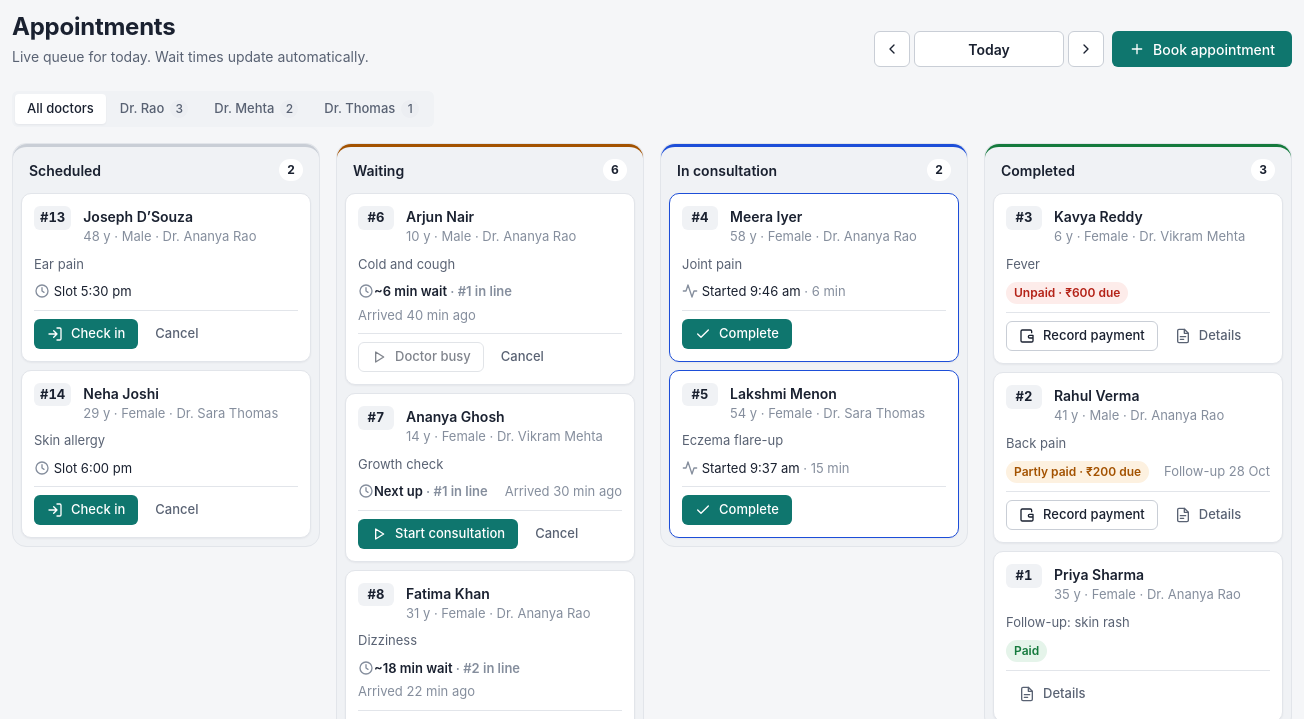
Test: AppointmentsPage › moves a waiting patient into consultation and updates the queue
expect the text "Next up · #1 in line" is shown: met, box left=358, top=482, right=488, bottom=502
Click the button "Start consultation": (438, 534) left=358, top=518, right=518, bottom=548
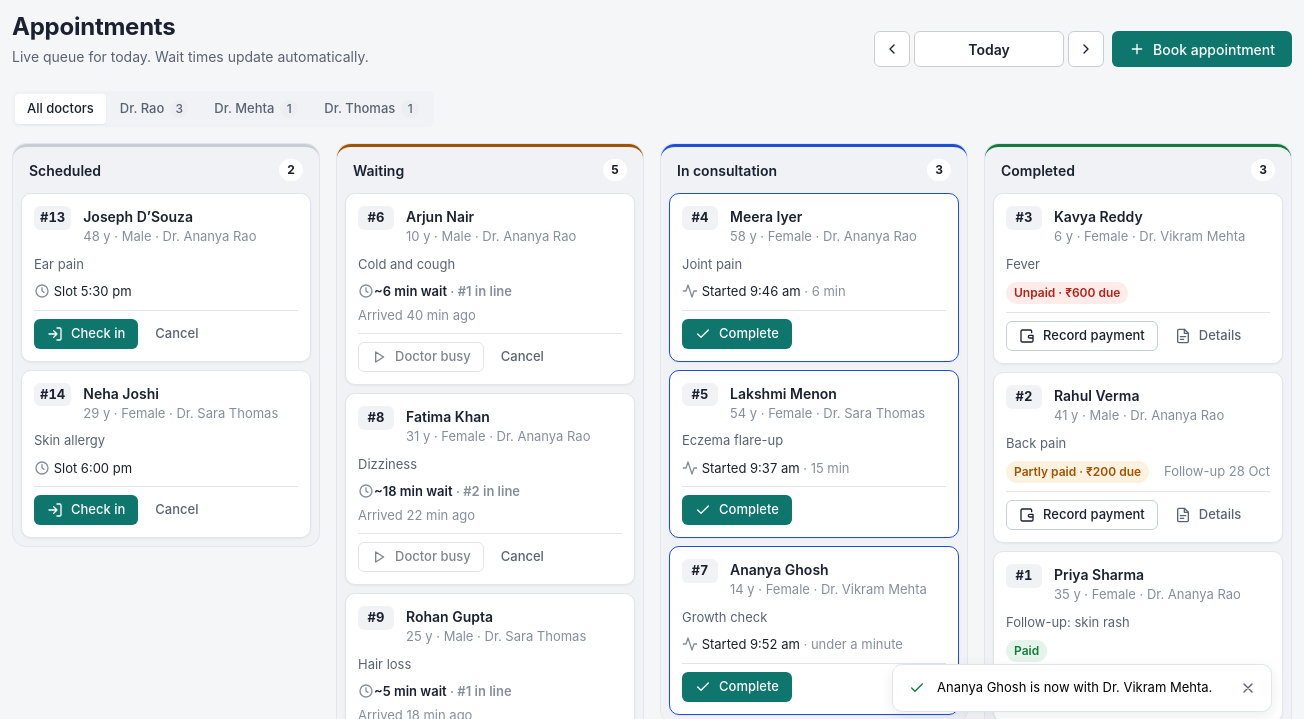
expect the button "Ananya Ghosh" is shown: met, box left=730, top=559, right=829, bottom=580
expect the text "Ananya Ghosh is now with Dr. Vikram Mehta." is shown: met, box left=937, top=678, right=1221, bottom=698
